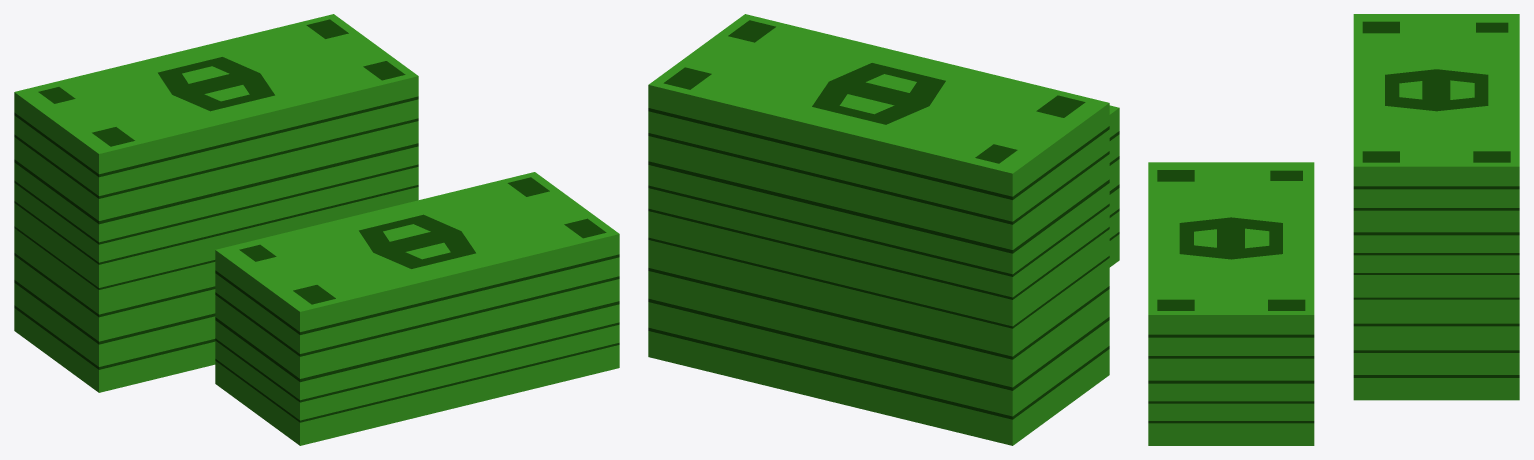
Rendered from finance_and_insurance.gltf.
3 views of the same model, side by side, from view 1: azimuth 30°, elevation 25°; view 2: azimuth 150°, elevation 25°; view 3: azimuth 270°, elevation 25° (orthographic). The views are drawn at different scales.
Visible parts, largest first — view 1: Finance and Insurance; view 2: Finance and Insurance; view 3: Finance and Insurance.
Part boxes in pixels (left/top/right/bottom): Finance and Insurance: left=14, top=14, right=619, bottom=445; Finance and Insurance: left=648, top=14, right=1119, bottom=445; Finance and Insurance: left=1148, top=14, right=1519, bottom=445.
Size of the model in its own units: 1.4 by 0.767 by 1.1.
1 material, 1 textured.
